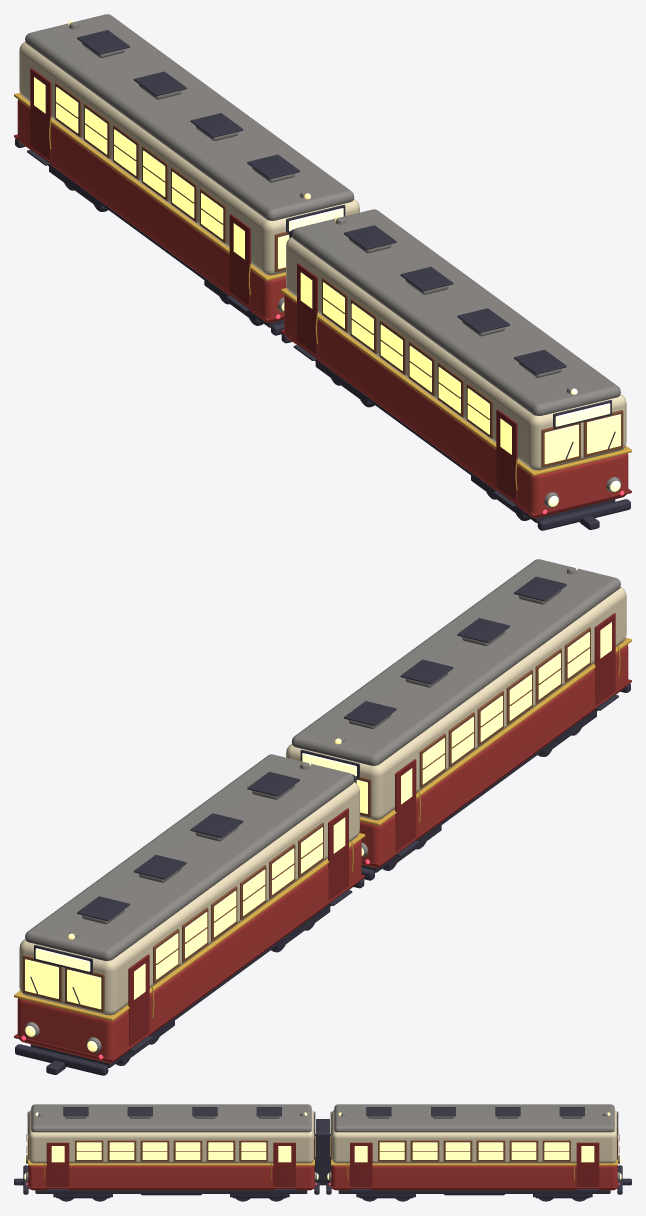
File: train.glb
3 renders of one model, top to bottom at view 1: azimuth 30°, elevation 25°; view 2: azimuth 150°, elevation 25°; view 3: azimuth 270°, elevation 25°, orthographic. The views are drawn at different scales.
Visible parts, largest first — view 1: roof, roof.001, body_low, body_low.001, body_high, body_high.001, belt, belt.001, door.004, door, door.005, door.001 (+26 smaller); view 2: roof.001, roof, body_low.001, body_low, body_high.001, body_high, belt.001, belt, door.001, door.005, door, door.004 (+26 smaller); view 3: roof.001, roof, body_low, body_low.001, body_high, body_high.001, underframe, underframe.001, gangway, door.002, door.007, door.003 (+45 smaller).
Boxes of the visible parts, bbox=[...] form: roof: bbox=[291, 209, 620, 415]; roof.001: bbox=[25, 14, 354, 220]; body_low: bbox=[284, 295, 628, 518]; body_low.001: bbox=[17, 99, 286, 322]; body_high: bbox=[286, 237, 626, 470]; body_high.001: bbox=[19, 42, 359, 275]; belt: bbox=[280, 288, 631, 476]; belt.001: bbox=[14, 92, 285, 280]; door.004: bbox=[229, 214, 250, 306]; door: bbox=[496, 409, 517, 501]; door.005: bbox=[30, 68, 51, 160]; door.001: bbox=[297, 263, 317, 355]; roof.001: bbox=[25, 754, 354, 960]; roof: bbox=[291, 559, 620, 765]; body_low.001: bbox=[17, 840, 361, 1063]; body_low: bbox=[359, 644, 628, 867]; body_high.001: bbox=[19, 782, 359, 1015]; body_high: bbox=[286, 587, 626, 820]; belt.001: bbox=[14, 833, 365, 1021]; belt: bbox=[360, 637, 631, 825]; door.001: bbox=[395, 759, 416, 851]; door.005: bbox=[128, 954, 149, 1046]; door: bbox=[594, 613, 615, 705]; door.004: bbox=[328, 808, 348, 900]; roof.001: bbox=[334, 1104, 614, 1132]; roof: bbox=[31, 1104, 311, 1132]; body_low: bbox=[28, 1165, 314, 1190]; body_low.001: bbox=[331, 1165, 617, 1190]; body_high: bbox=[28, 1110, 314, 1163]; body_high.001: bbox=[331, 1110, 617, 1163]; underframe: bbox=[35, 1190, 307, 1193]; underframe.001: bbox=[338, 1190, 610, 1193]; gangway: bbox=[314, 1119, 331, 1182]; door.002: bbox=[46, 1142, 69, 1186]; door.007: bbox=[576, 1142, 599, 1186]; door.003: bbox=[273, 1142, 295, 1186].
Bounding box in the file's own units: 2.96 × 3.83 × 25.9.
